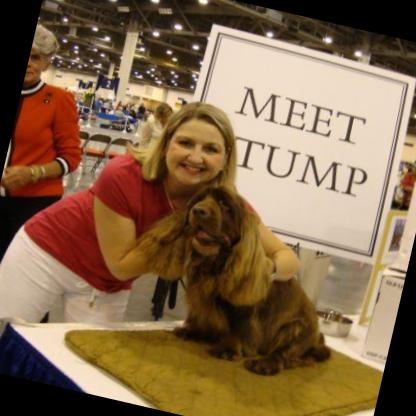Sussex_spaniel: (114, 169, 363, 387)
